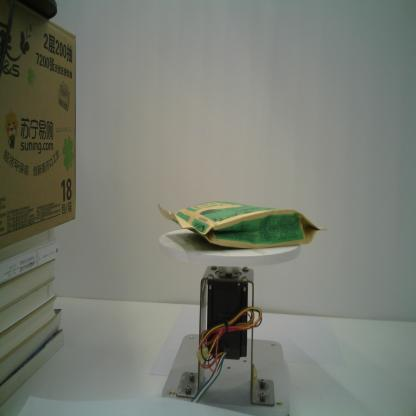Dried Food: (156, 198, 328, 249)
